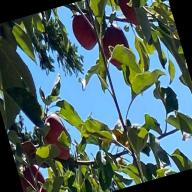Apples: (97, 21, 134, 73), (37, 112, 73, 164), (69, 11, 101, 53), (114, 0, 151, 28), (17, 163, 51, 192)
